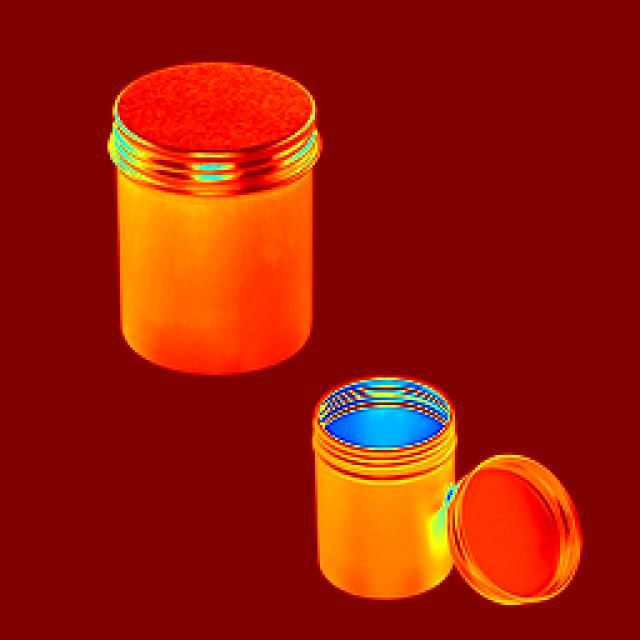Aluminium Food Cans: (103, 60, 317, 395), (307, 368, 567, 625)
